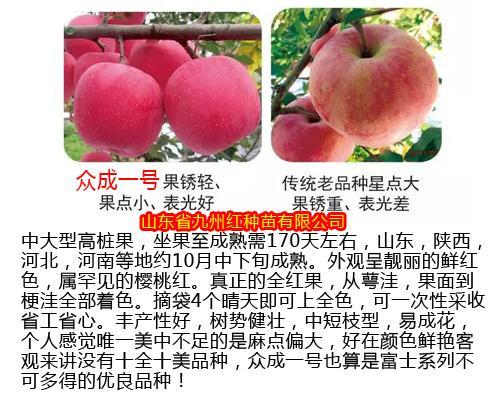apple: (306, 18, 438, 150), (163, 54, 260, 156), (69, 60, 164, 156), (271, 94, 353, 163)
